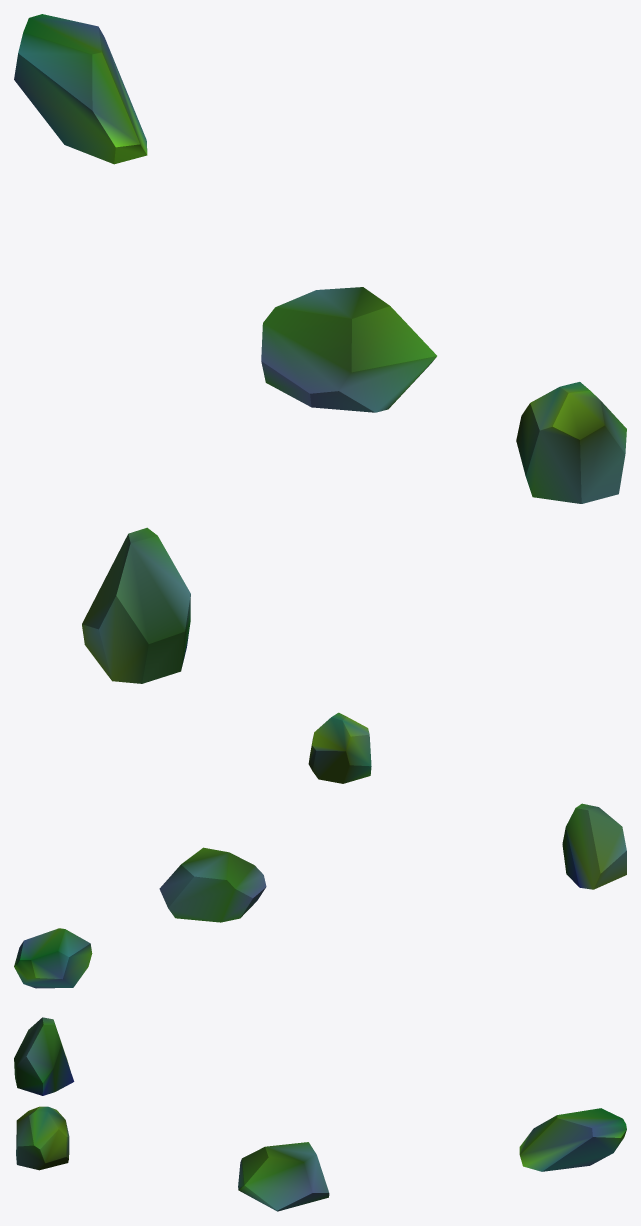
Rendered from STONES2.fbx.
3 views of the same model, one above another, from view 1: azimuth 30°, elevation 25°; view 2: azimuth 150°, elevation 25°; view 3: azimuth 270°, elevation 25° (orthographic). The views are drawn at different scales.
Visible parts, largest first — view 1: Large_Rock02, Large_Rock01, Medium_Rock03, Large_Rock03; view 2: Large_Rock02, Medium_Rock03, Large_Rock01, Large_Rock03; view 3: Large_Rock01, Large_Rock02, Medium_Rock03, Large_Rock03.
Boxes of the visible parts, bbox=[...] form: Large_Rock02: bbox=[261, 287, 436, 412]; Large_Rock01: bbox=[14, 14, 147, 164]; Medium_Rock03: bbox=[82, 527, 190, 683]; Large_Rock03: bbox=[516, 382, 626, 503]; Large_Rock02: bbox=[159, 847, 266, 922]; Medium_Rock03: bbox=[562, 803, 626, 889]; Large_Rock01: bbox=[14, 928, 92, 988]; Large_Rock03: bbox=[308, 712, 371, 783]; Large_Rock01: bbox=[519, 1108, 626, 1171]; Large_Rock02: bbox=[238, 1142, 329, 1211]; Medium_Rock03: bbox=[14, 1017, 74, 1095]; Large_Rock03: bbox=[16, 1106, 69, 1170].
Bounding box in the file's own units: 423 × 120 × 744.
